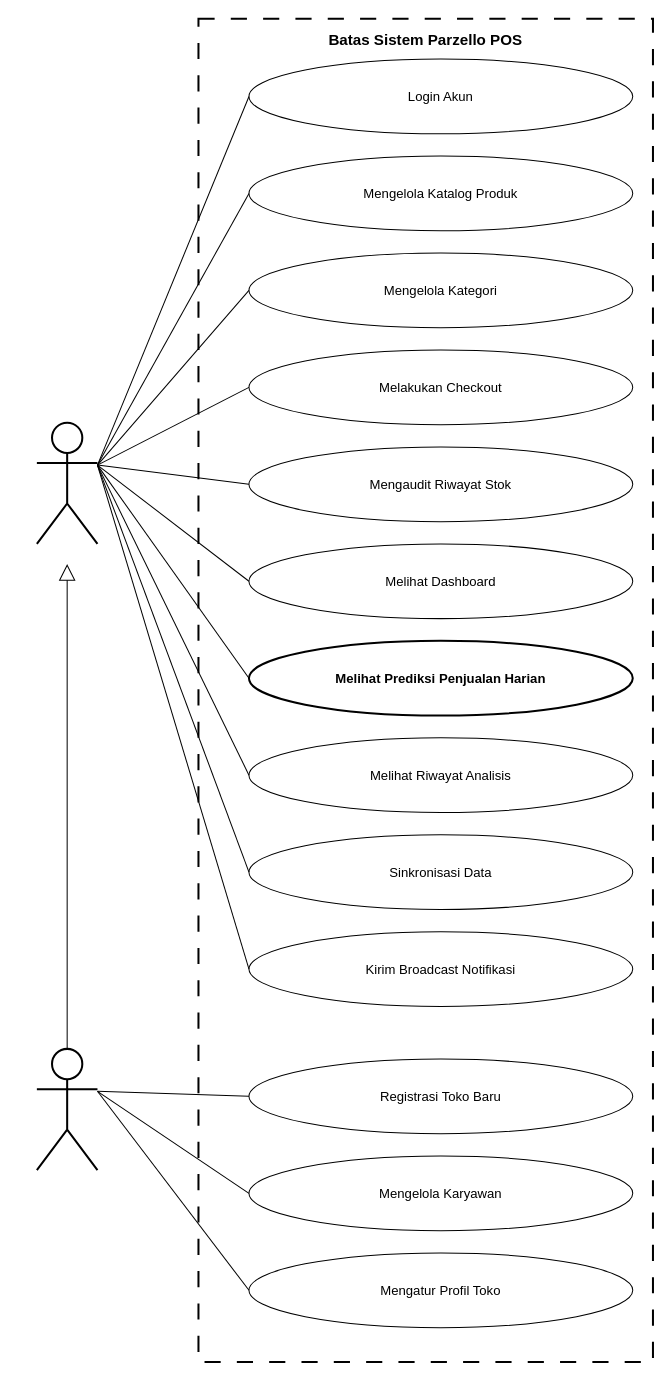
The diagram is 671 pixels wide and 1380 high, and some of its shapes have lost their labels. The box of each missing label's shape, as (x1, y1, x2, y2) in pixels:
Kasir (Staf): (35, 421, 98, 544)
Owner (Pemilik): (35, 1047, 98, 1171)
